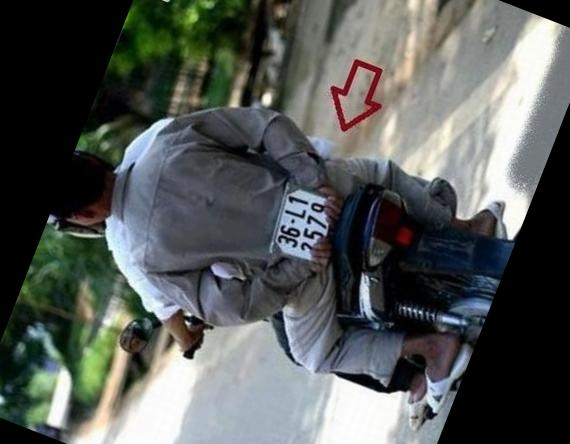plate: (268, 180, 338, 261)
